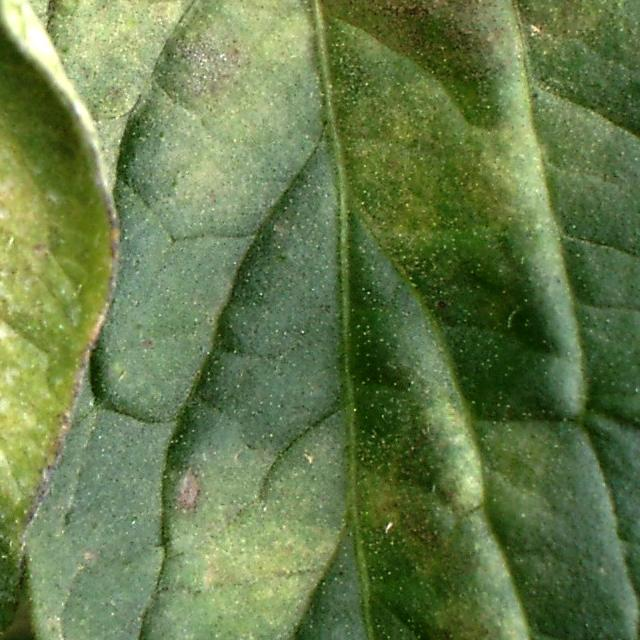Tomato mold leaf: (0, 0, 640, 640), (0, 0, 111, 640)
